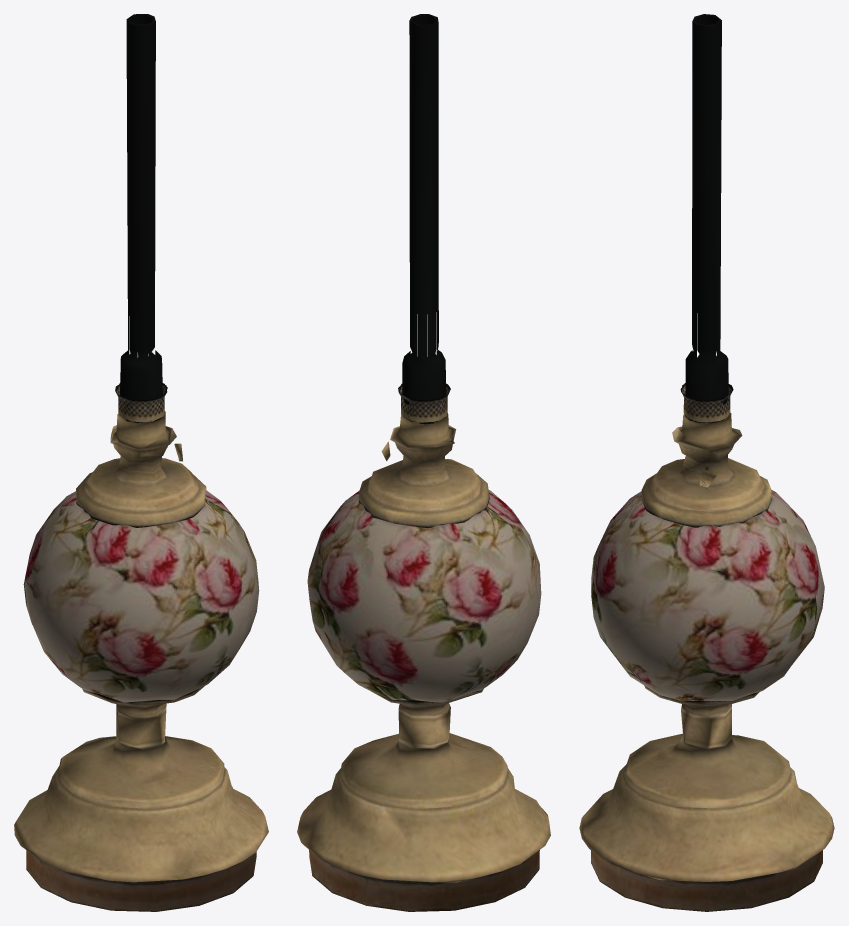
Rendered from vintage_oil_lamp.glb.
3 renders of one model, left to right at view 1: azimuth 30°, elevation 25°; view 2: azimuth 150°, elevation 25°; view 3: azimuth 270°, elevation 25°, orthographic.
Visible parts, largest first — view 1: vintage_oil_lamp, vintage_oil_lamp_glass; view 2: vintage_oil_lamp, vintage_oil_lamp_glass; view 3: vintage_oil_lamp, vintage_oil_lamp_glass.
Part boxes in pixels (bbox=[...]): vintage_oil_lamp: bbox=[14, 411, 268, 911]; vintage_oil_lamp_glass: bbox=[115, 14, 167, 422]; vintage_oil_lamp: bbox=[297, 413, 550, 911]; vintage_oil_lamp_glass: bbox=[398, 14, 450, 424]; vintage_oil_lamp: bbox=[579, 413, 834, 911]; vintage_oil_lamp_glass: bbox=[680, 14, 733, 423].
Size of the model in its own units: 0.2179 by 0.8016 by 0.22.
Materials: 3 (3 with a texture image).
